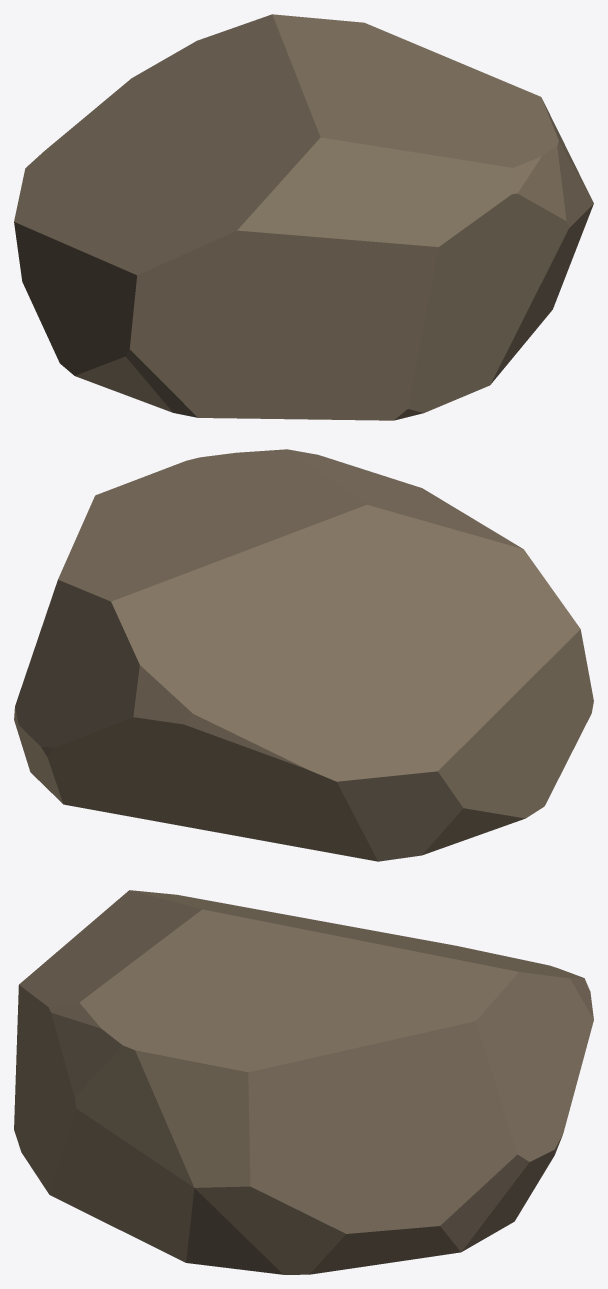
The model's file is Stone_4_brown_mat.fbx.
3 renders of one model, top to bottom at view 1: azimuth 30°, elevation 25°; view 2: azimuth 150°, elevation 25°; view 3: azimuth 270°, elevation 25°, orthographic. The views are drawn at different scales.
Parts seen in each view (by area): view 1: Stone_4_brown_mat; view 2: Stone_4_brown_mat; view 3: Stone_4_brown_mat.
Boxes of the visible parts, x1,y1,x2,y2 form: Stone_4_brown_mat: (14,14,593,420); Stone_4_brown_mat: (14,449,593,861); Stone_4_brown_mat: (14,890,593,1274).
Size of the model in its own units: 91.18 by 40.34 by 89.55.
